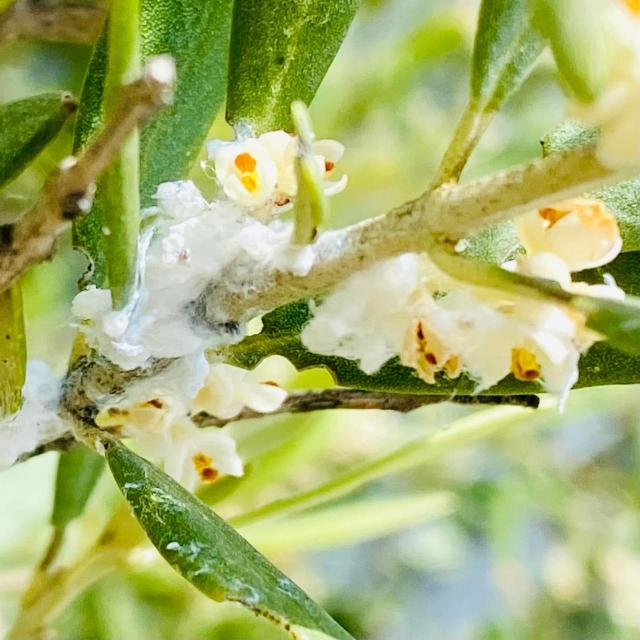Psyllid: (72, 102, 374, 381), (101, 436, 355, 640), (301, 254, 598, 388)
